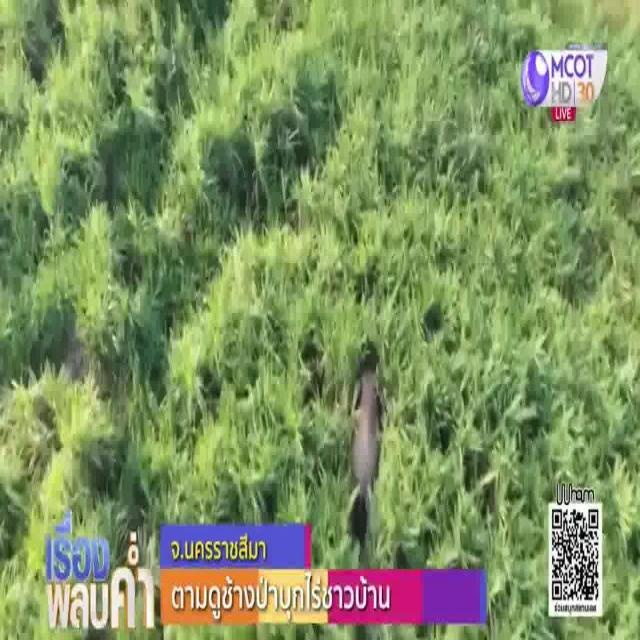Elephant: (343, 341, 388, 495)
